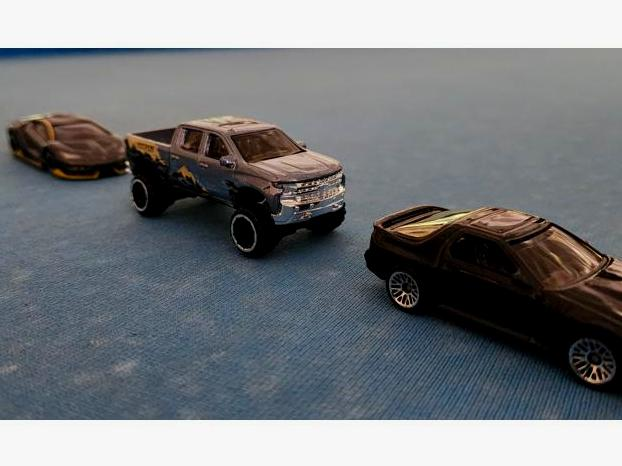toy-car: (365, 204, 622, 398), (124, 116, 346, 259), (7, 113, 126, 180)
